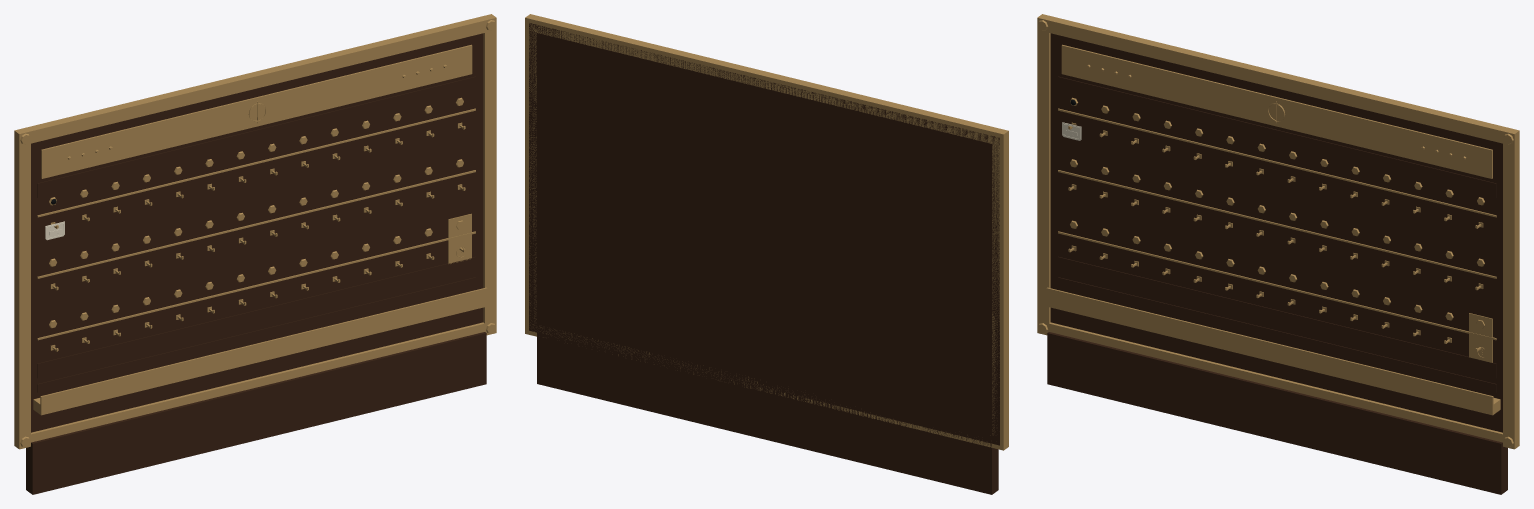
Rendered from roll_board.glb.
The picture shows the model from 3 angles, left to right: view 1: azimuth 30°, elevation 25°; view 2: azimuth 150°, elevation 25°; view 3: azimuth 330°, elevation 25°; orthographic projection.
Parts seen in each view (by area): view 1: roll_board; view 2: roll_board; view 3: roll_board.
Boxes of the visible parts, bbox=[...] form: roll_board: bbox=[14, 14, 496, 494]; roll_board: bbox=[525, 14, 1008, 494]; roll_board: bbox=[1037, 14, 1519, 494].
Bounding box in the file's own units: 2.44 × 1.77 × 0.1.
